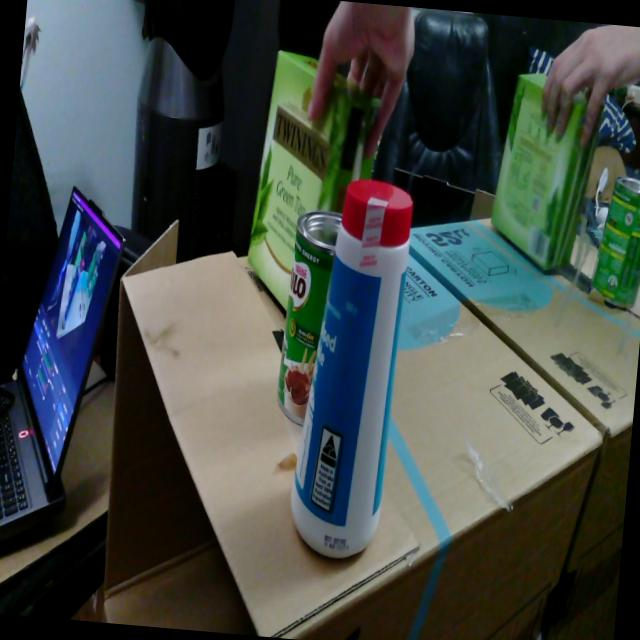nestle_milo_tin: (277, 210, 342, 425)
twinings_greentea_box: (247, 51, 381, 310)
woolworths_salt_bottle: (290, 180, 413, 557)
